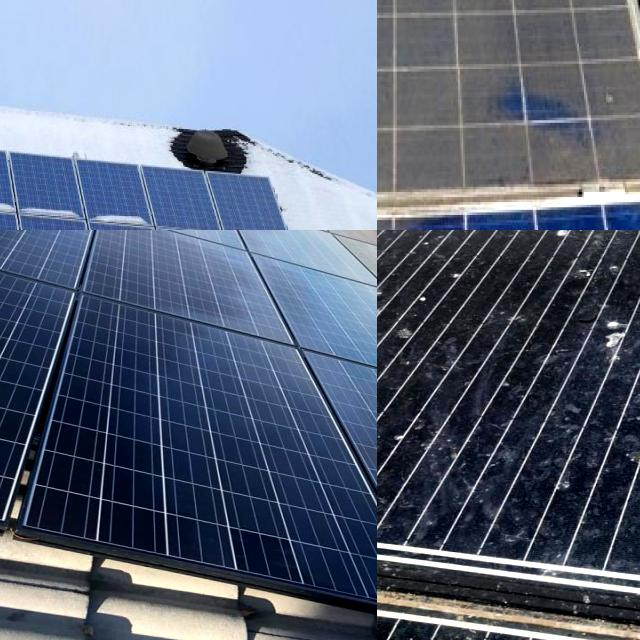bird: (576, 427, 640, 598), (448, 230, 640, 282), (549, 279, 640, 365)
crack: (48, 280, 377, 631), (61, 230, 333, 341), (246, 247, 377, 408), (0, 230, 172, 327), (0, 230, 160, 297), (0, 230, 169, 280)
dust: (450, 0, 640, 93), (485, 109, 640, 195), (377, 112, 483, 206), (377, 0, 469, 106)
panel: (18, 189, 85, 230), (90, 199, 154, 230), (0, 180, 32, 229)
